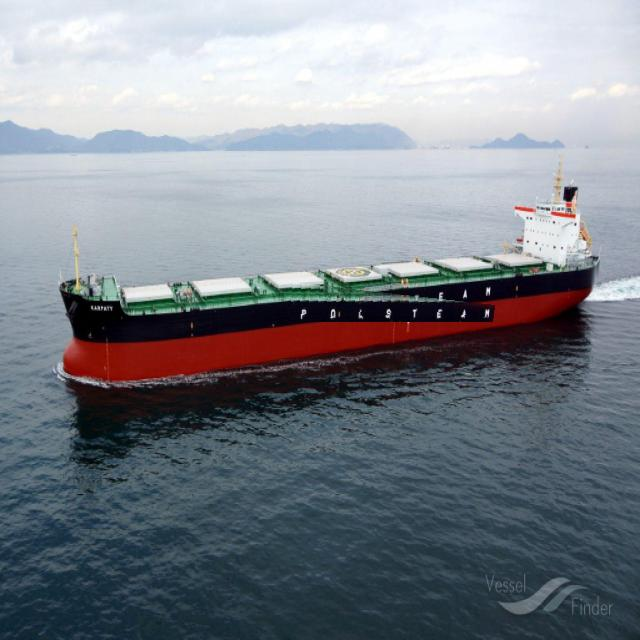OCR: (288, 282, 495, 322)
